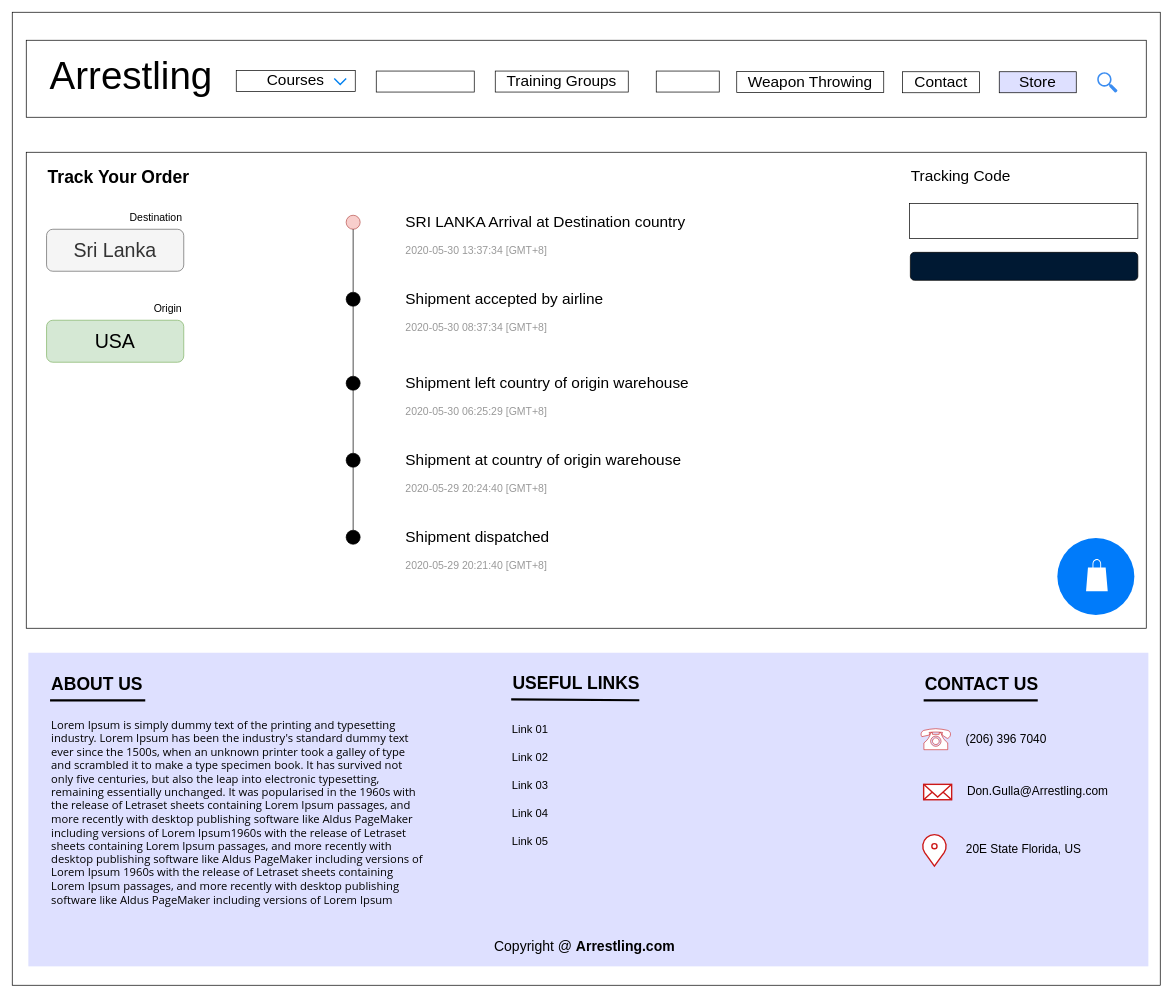
Some shapes in this 1173 by 998 pixel diagram are drawn without their labels. Here are the shapes that lost their labels. From the top down, the centre of each, then its label:
At point 425,81: "Schedule".
At point 687,81: "About".
At point 1023,220: "Paste the tracking ID".
At point 1024,266: "Track".
